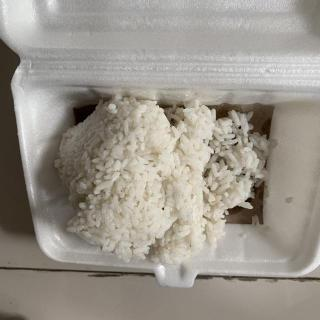Nasi: (59, 102, 272, 266)
